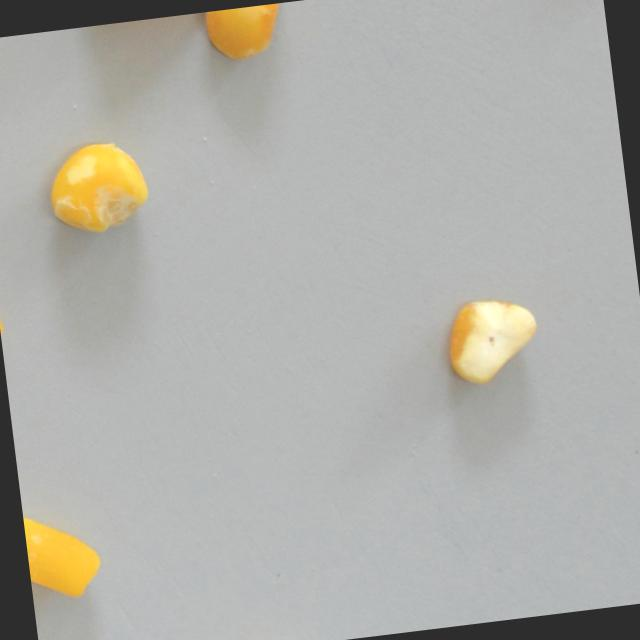dañado: (197, 1, 296, 68)
pelicula: (39, 132, 156, 244), (20, 496, 108, 606)
punto_negro: (435, 289, 546, 394)
